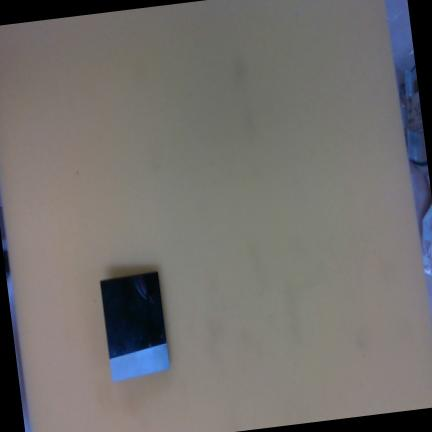tile: (98, 271, 171, 383)
